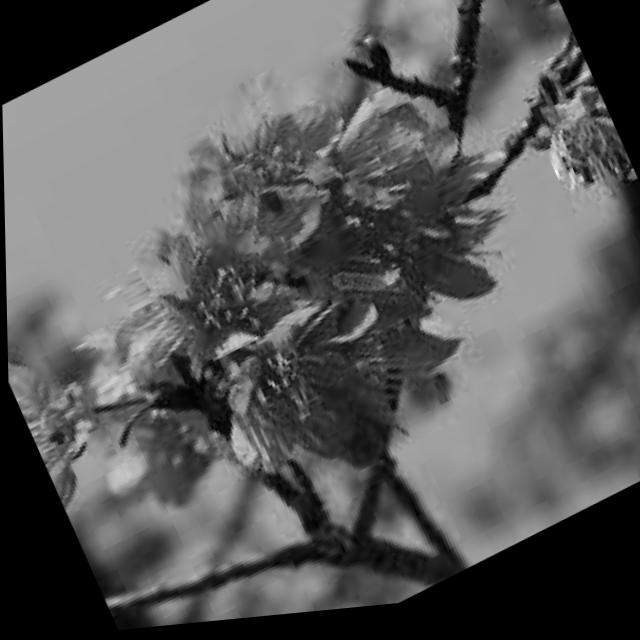Flower: (225, 46, 555, 390), (156, 238, 439, 545), (130, 39, 393, 317), (99, 164, 336, 403), (6, 337, 116, 508), (512, 80, 615, 201)
